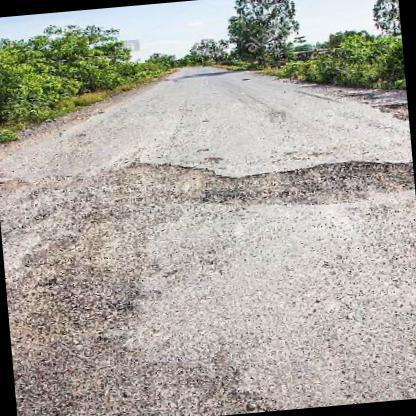pothole: (0, 214, 147, 414), (121, 160, 416, 212)
